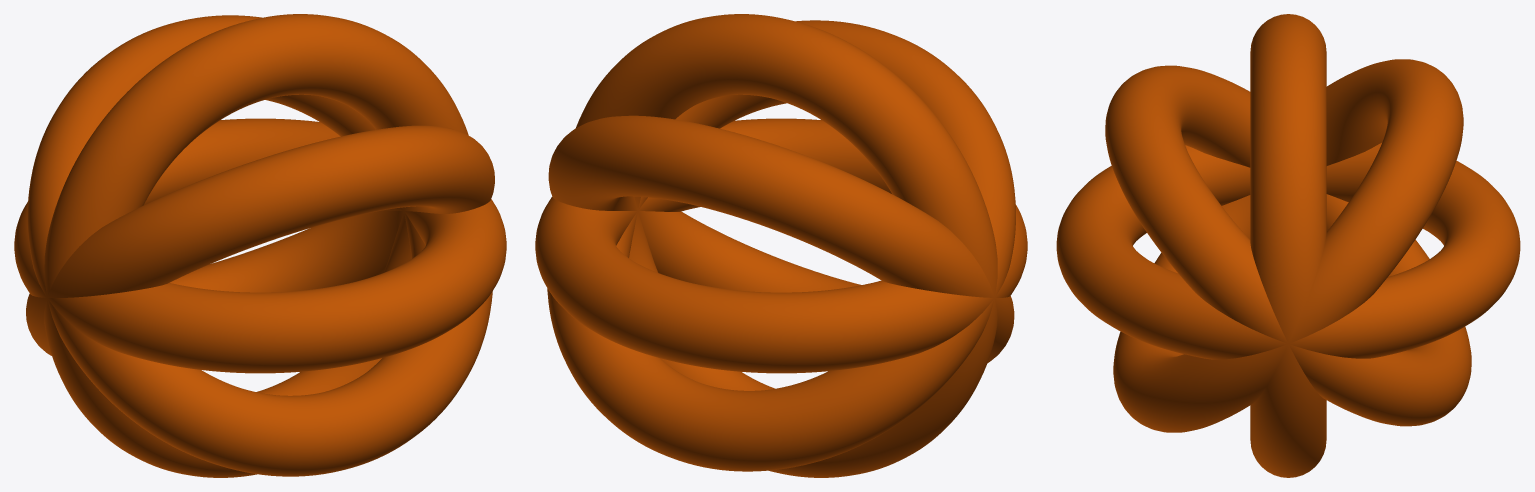
Rendered from BallRed.fbx.
3 views of the same model, side by side, from view 1: azimuth 30°, elevation 25°; view 2: azimuth 150°, elevation 25°; view 3: azimuth 270°, elevation 25° (orthographic). The views are drawn at different scales.
Parts seen in each view (by area): view 1: UV Torus2, UV Torus3, UV Torus1, UV Torus4; view 2: UV Torus3, UV Torus2, UV Torus1, UV Torus4; view 3: UV Torus4, UV Torus3, UV Torus2, UV Torus1.
Part boxes in pixels (x1,y1,x2,y2): UV Torus2: (27, 15, 492, 476); UV Torus3: (26, 125, 494, 355); UV Torus1: (44, 14, 468, 477); UV Torus4: (14, 118, 506, 373); UV Torus3: (547, 20, 1015, 471); UV Torus2: (548, 115, 1014, 363); UV Torus1: (576, 14, 997, 477); UV Torus4: (535, 118, 1027, 373); UV Torus4: (1056, 143, 1520, 359); UV Torus3: (1105, 65, 1471, 426); UV Torus2: (1113, 59, 1463, 432); UV Torus1: (1250, 14, 1326, 477).
Bounding box in the file's own units: 23.91 × 23.91 × 23.91.
